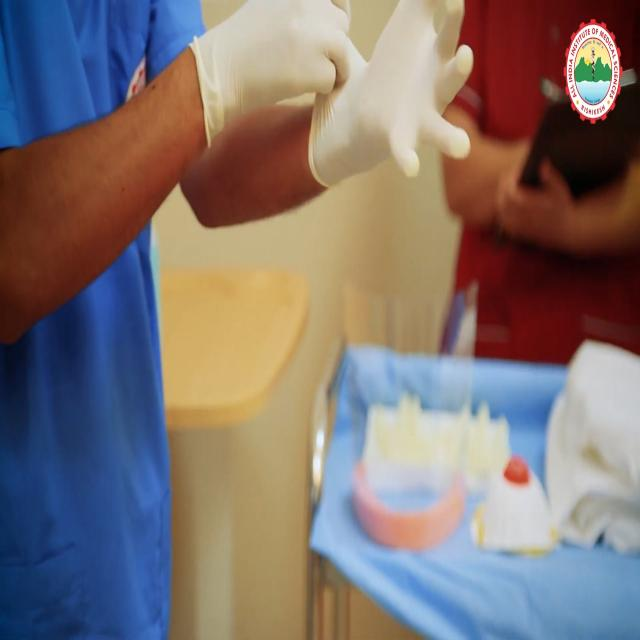Gloves: (305, 2, 484, 230), (193, 0, 352, 130)
